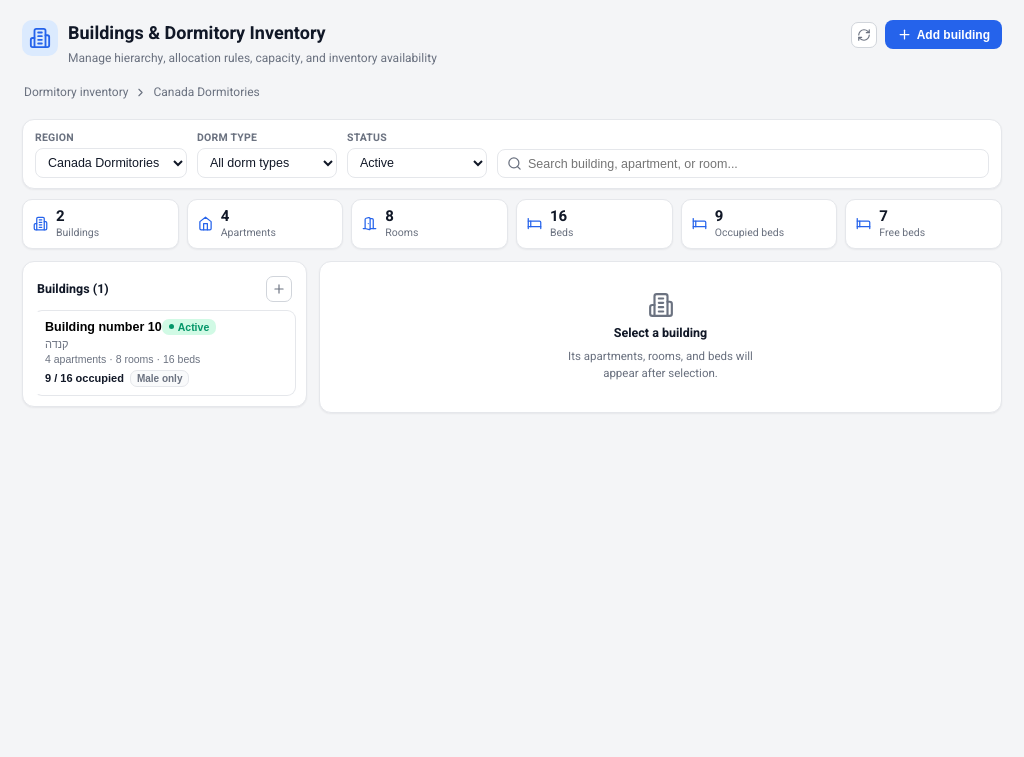
Scenario: BuildingsPage structure navigation › expanding an apartment shows its rooms; expanding a room fetches its beds
This screenshot has width=1024, height=757.
Click the button "Building number 10" at (164, 352), box [33,310,296,396]
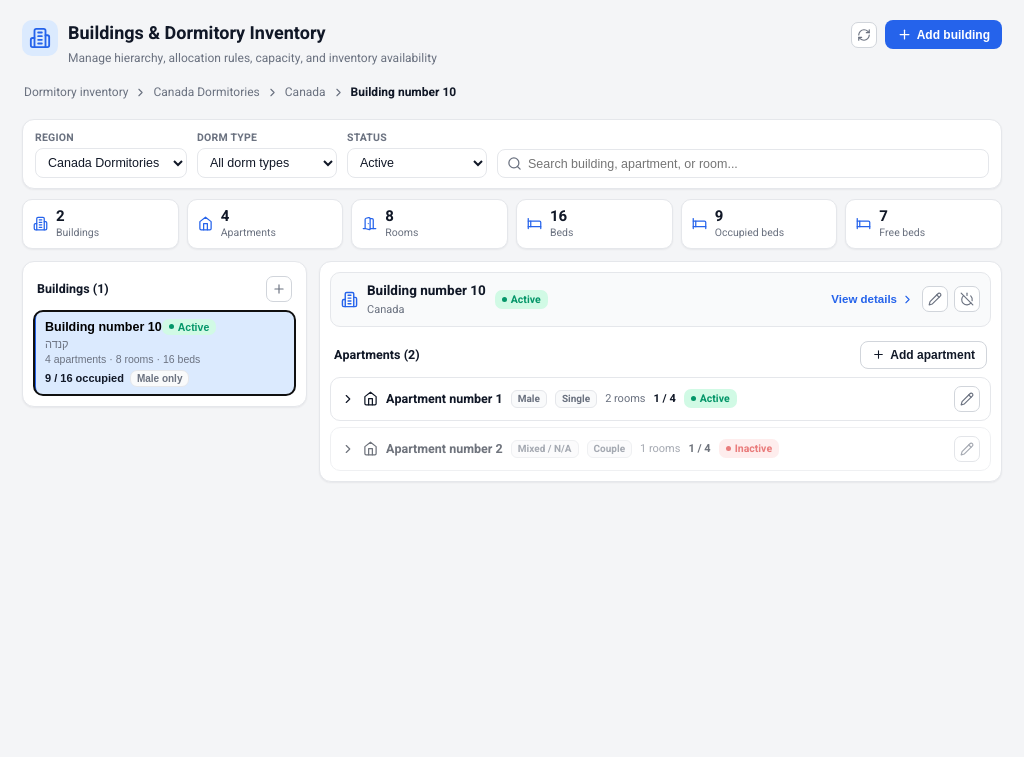
Expected: the text "Apartment number 1" is shown, [386,390,503,408]
Click the button "Apartment number 1 Male Single 2 rooms 1 / 4 Active" at (660, 398), box [331,378,990,420]
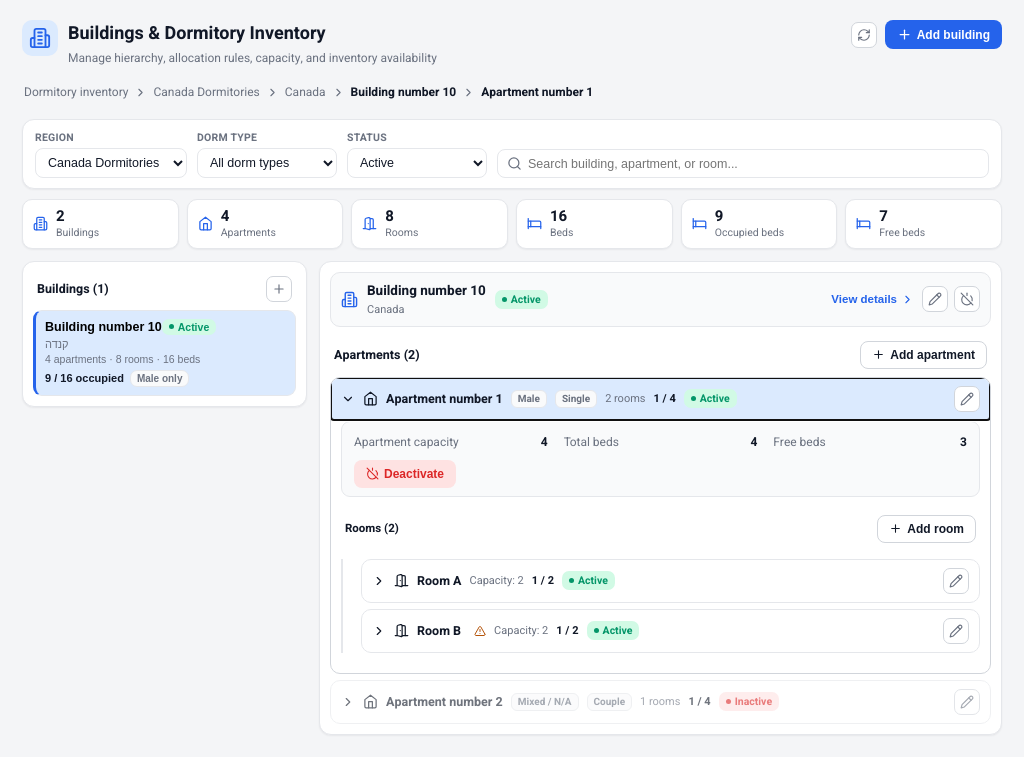
Expected: the heading "Rooms (2)" is shown, [345,520,399,537]
Expected: the icon titled "There is a mismatch between room capacity and bed records in the database" is shown, [474,624,486,636]
Click the button "Room A Capacity: 2 1 / 2 Active" at (433, 580), box [362,560,979,602]
(page scrolled)
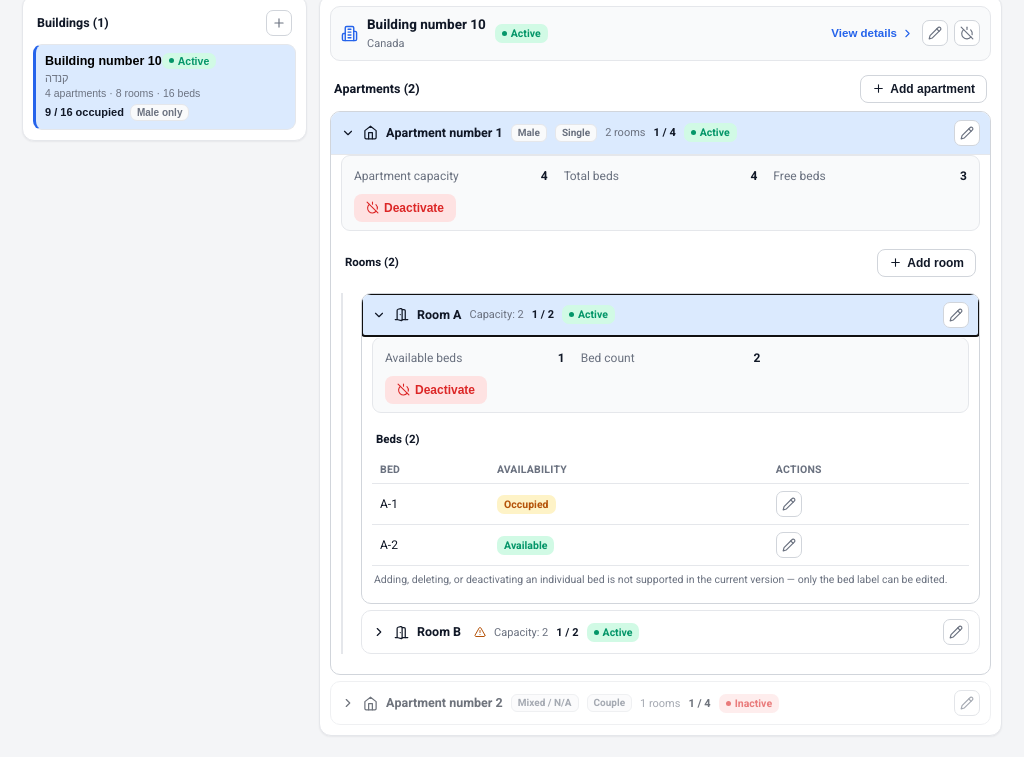
Expected: the text "A-1" is shown, [372,483,489,524]
Expected: the heading "Beds (2)" is shown, [376,430,420,448]
Expected: the text "Occupied" is shown, [497,495,556,514]
Click the row "A-2 Available" at (670, 545), box [372,524,969,566]
(page scrolled)
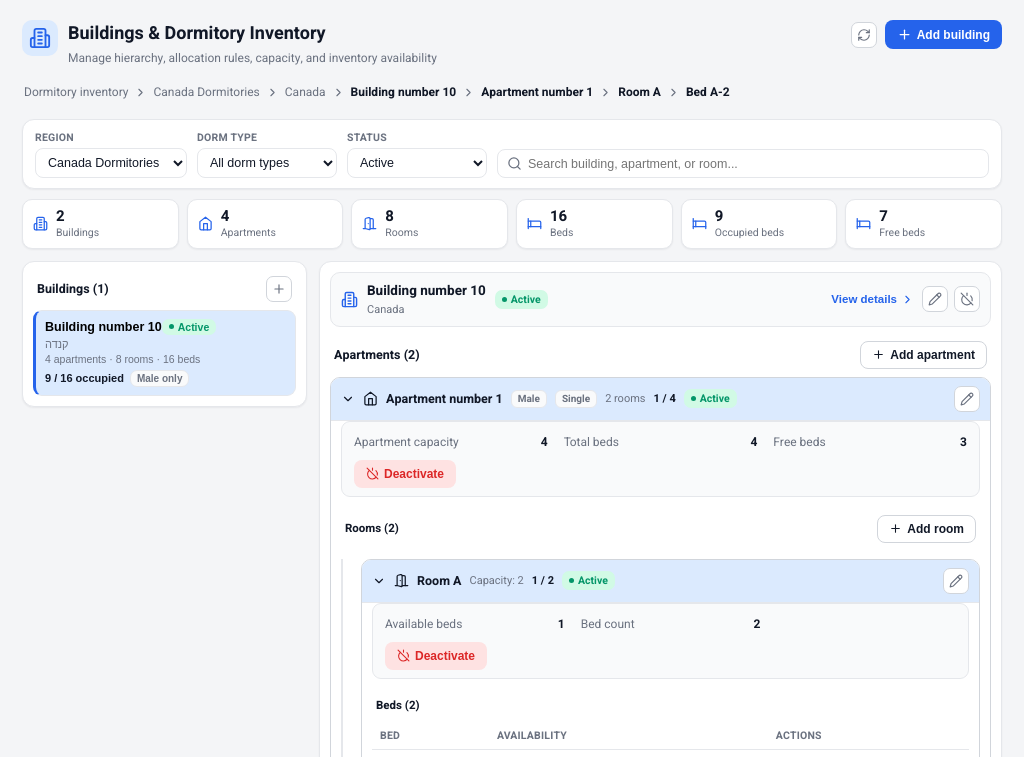
Expected: the text "Bed A-2" is shown, [686,83,730,101]
